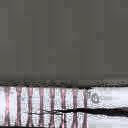crackTip: (24, 101, 128, 121)
